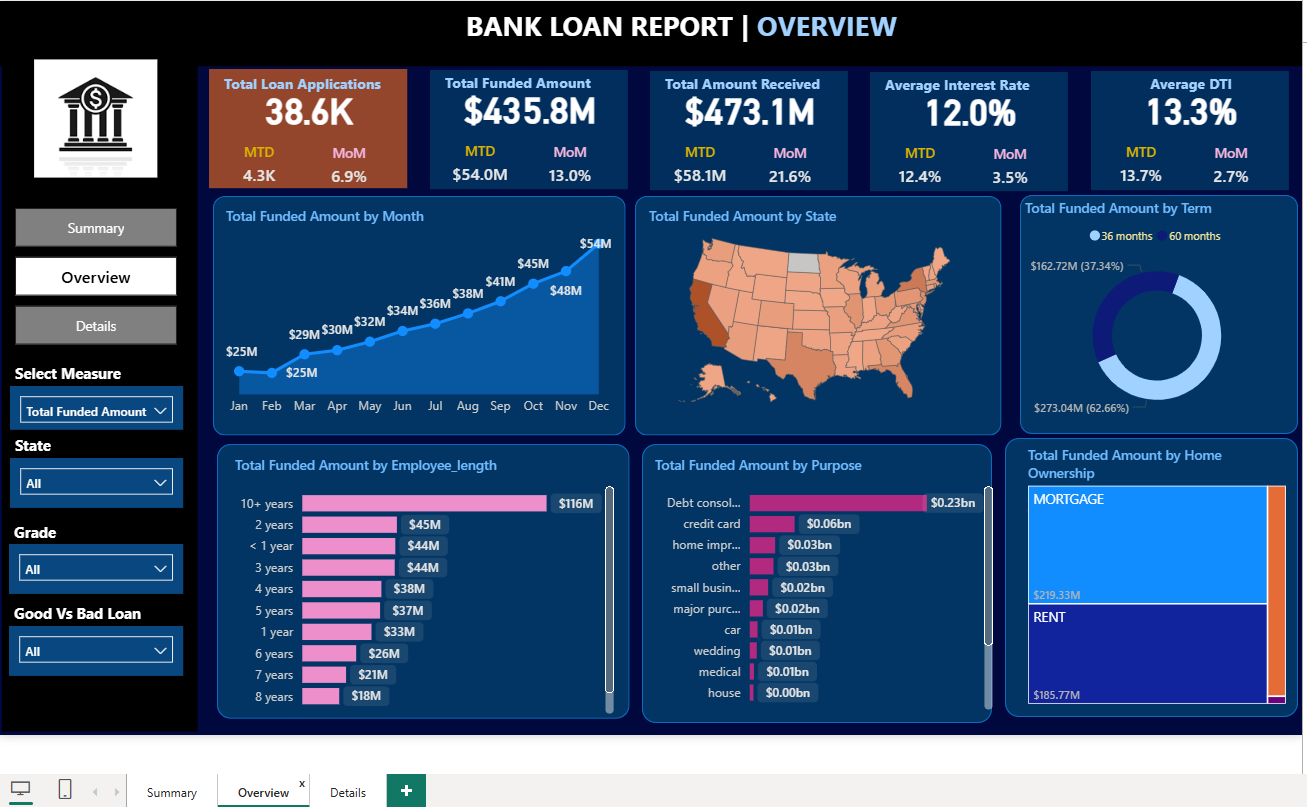

This screenshot's page, from the dashboard's own definition file:
{"tool":"powerbi","page":{"name":"Overview","canvas":[1280,720],"ordinal":1},"visuals":[{"type":"shape","box":[2.9,50.1,192.4,666.5],"z":0},{"type":"shape","box":[206.4,67.1,194.9,117.1],"z":0,"group":"g7"},{"type":"shape","box":[422.7,67.8,194.7,117.3],"z":0,"group":"g8"},{"type":"shape","box":[638.9,69.2,194.7,117.3],"z":0,"group":"g9"},{"type":"shape","box":[1071.8,69.5,194.7,117.3],"z":0,"group":"g11"},{"type":"shape","box":[855.1,69.7,194.7,117.3],"z":0,"group":"g10"},{"type":"group","id":"g1","title":"Group 2","box":[1002,190.1,272.9,234.6],"z":0,"group":"g14"},{"type":"group","id":"g2","title":"Group 2","box":[210.5,191.3,405,235],"z":0,"group":"g12"},{"type":"group","id":"g3","title":"Group 2","box":[624.4,191.3,359.6,235],"z":0,"group":"g13"},{"type":"group","id":"g4","title":"Group 2","box":[988,429.1,287.6,273.9],"z":0,"group":"g17"},{"type":"group","id":"g5","title":"Group 2","box":[214,435,405.4,269.9],"z":0,"group":"g15"},{"type":"group","id":"g6","title":"Group 2","box":[631,435,343.6,273.9],"z":0,"group":"g16"},{"type":"shape","box":[0,0,1280,54.1],"z":1000},{"type":"card","fields":{"Values":["bank_loan_data.Total Funded Amount"]},"box":[416.8,76.1,207.6,56.3],"z":1000,"group":"g8"},{"type":"card","fields":{"Values":["bank_loan_data.Total Loan Applications"]},"box":[200.5,77.3,207.6,56.3],"z":1000,"group":"g7"},{"type":"card","fields":{"Values":["bank_loan_data.Total Amount Recieved"]},"box":[633,77.5,207.6,56.3],"z":1000,"group":"g9"},{"type":"card","fields":{"Values":["bank_loan_data.Average DTI"]},"box":[1065.9,77.8,207.6,56.3],"z":1000,"group":"g11"},{"type":"card","fields":{"Values":["bank_loan_data.Average Interest Rate"]},"box":[849.2,78,207.6,56.3],"z":1000,"group":"g10"},{"type":"shape","box":[1002,190.1,272.9,234.6],"z":1000,"group":"g1"},{"type":"shape","box":[210.5,191.3,405,235],"z":1000,"group":"g2"},{"type":"shape","box":[624.4,191.3,359.6,235],"z":1000,"group":"g3"},{"type":"shape","box":[988,429.1,287.6,273.9],"z":1000,"group":"g4"},{"type":"shape","box":[214,435,405.4,269.9],"z":1000,"group":"g5"},{"type":"shape","box":[631,435,343.6,273.9],"z":1000,"group":"g6"},{"type":"textbox","box":[432,65.5,177.1,38.7],"z":2000,"group":"g8"},{"type":"textbox","box":[215.7,66.7,177.1,38.7],"z":2000,"group":"g7"},{"type":"textbox","box":[648.2,66.9,177.1,38.7],"z":2000,"group":"g9"},{"type":"textbox","box":[1081.1,67.2,177.1,38.7],"z":2000,"group":"g11"},{"type":"textbox","box":[864.4,67.4,177.1,38.7],"z":2000,"group":"g10"},{"type":"textbox","box":[10.8,421.1,65,38.5],"z":2000},{"type":"textbox","box":[453.5,0,447.7,51],"z":3000},{"type":"card","title":"MTD","fields":{"Values":["bank_loan_data.MTD Funded Amount"]},"box":[432,138.4,78.6,49.3],"z":3000,"group":"g8"},{"type":"card","title":"MTD","fields":{"Values":["bank_loan_data.MTD Loan Applications"]},"box":[215.7,139.6,78.6,49.3],"z":3000,"group":"g7"},{"type":"card","title":"MTD","fields":{"Values":["bank_loan_data.MTD Total Amount Recieved"]},"box":[648.2,139.8,78.6,49.3],"z":3000,"group":"g9"},{"type":"card","title":"MTD","fields":{"Values":["bank_loan_data.MTD Average DTI"]},"box":[1081.1,140.1,78.6,49.3],"z":3000,"group":"g11"},{"type":"card","title":"MTD","fields":{"Values":["bank_loan_data.MTD Average Interest Rate"]},"box":[864.4,140.3,78.6,49.3],"z":3000,"group":"g10"},{"type":"group","id":"g7","title":"Group 1","box":[200.5,66.7,207.6,123.3],"z":4000},{"type":"card","title":"MoM","fields":{"Values":["bank_loan_data.MOM Total Funded Amount"]},"box":[521.2,139.5,78.6,49.3],"z":4000,"group":"g8"},{"type":"card","title":"MoM","fields":{"Values":["bank_loan_data.MoM Loan Application"]},"box":[304.9,140.7,78.6,49.3],"z":4000,"group":"g7"},{"type":"card","title":"MoM","fields":{"Values":["bank_loan_data.MOM Total Amount Recieved"]},"box":[737.4,140.9,78.6,49.3],"z":4000,"group":"g9"},{"type":"card","title":"MoM","fields":{"Values":["bank_loan_data.MOM Average DTI"]},"box":[1170.3,141.2,78.6,49.3],"z":4000,"group":"g11"},{"type":"card","title":"MoM","fields":{"Values":["bank_loan_data.MOM Average Interest Rate"]},"box":[953.6,141.4,78.6,49.3],"z":4000,"group":"g10"},{"type":"group","id":"g8","title":"Group 1","box":[416.8,65.5,207.6,123.3],"z":5000},{"type":"group","id":"g9","title":"Group 1","box":[633,66.9,207.6,123.3],"z":6000},{"type":"group","id":"g10","title":"Group 1","box":[849.2,67.4,208,124],"z":7000},{"type":"group","id":"g11","title":"Group 1","box":[1065.9,67.2,208.1,123.9],"z":8000},{"type":"group","id":"g12","title":"Group 3","box":[210.5,191.3,405,235],"z":9000},{"type":"shape","box":[0,50.5,1280,14.4],"z":10000},{"type":"slicer","fields":{"Values":["bank_loan_data.address_state"]},"box":[10.8,448.7,169.6,49.3],"z":11000},{"type":"slicer","fields":{"Values":["bank_loan_data.grade"]},"box":[9.6,532.9,170.8,49.3],"z":12000},{"type":"textbox","box":[9.6,506.5,65,38.5],"z":13000},{"type":"slicer","fields":{"Values":["bank_loan_data.Good vs Bad Loan"]},"box":[9.6,613.5,170.8,49.3],"z":14000},{"type":"textbox","box":[9.8,586,170.8,38.3],"z":15000},{"type":"areaChart","fields":{"Y":["bank_loan_data.Total Funded Amount"],"Category":["Date Table.Month"]},"box":[217.7,202.1,388.6,212.9],"z":16000},{"type":"slicer","fields":{"Values":["Select Measure.Select Measure"]},"box":[10.8,377.7,169.6,43.3],"z":17000},{"type":"textbox","box":[10.8,350.1,176.8,37.3],"z":18000},{"type":"group","id":"g13","title":"Group 3","box":[624.4,191.3,359.7,235.8],"z":19000},{"type":"shapeMap","fields":{"Value":["bank_loan_data.Total Funded Amount"],"Category":["bank_loan_data.address_state"]},"box":[633.1,202.2,334.7,205.2],"z":20000},{"type":"donutChart","fields":{"Y":["bank_loan_data.Total Funded Amount"],"Category":["bank_loan_data.term"]},"box":[1002,193.9,269,223.8],"z":20002,"group":"g14"},{"type":"treemap","fields":{"Values":["bank_loan_data.Total Funded Amount"],"Group":["bank_loan_data.home_ownership"]},"box":[1005.7,436.8,263.1,258.2],"z":20007,"group":"g4"},{"type":"group","id":"g14","title":"Group 3","box":[1002,190.1,272.9,234.6],"z":21000},{"type":"group","id":"g15","title":"Group 3","box":[214,435,405.4,269.9],"z":22000},{"type":"barChart","fields":{"Y":["bank_loan_data.Total Funded Amount"],"Category":["bank_loan_data.emp_length"]},"box":[226.7,446.6,381.8,258.2],"z":23000},{"type":"group","id":"g16","title":"Group 3","box":[631,435,343.6,273.9],"z":24000},{"type":"barChart","fields":{"Y":["bank_loan_data.Total Funded Amount"],"Category":["bank_loan_data.purpose"]},"box":[639,446.6,341.6,254.2],"z":25000},{"type":"group","id":"g17","title":"Group 3","box":[988,429.1,287.6,273.9],"z":26000},{"type":"pageNavigator","box":[15.7,203.2,159,134.5],"z":27000},{"type":"image","box":[29.4,35.3,130.6,159],"z":28000}]}

Visuals, with their boxes on the page's 1280x720 design canvas (x1, y1, x2, y2). These are canvas units, not pixel positions in the 1307x807 screenshot, which may show the page scaled, cropped or inside an application window:
shape: (left=3, top=50, right=195, bottom=717)
shape: (left=206, top=67, right=401, bottom=184)
shape: (left=423, top=68, right=617, bottom=185)
shape: (left=639, top=69, right=834, bottom=186)
shape: (left=1072, top=70, right=1266, bottom=187)
shape: (left=855, top=70, right=1050, bottom=187)
"Group 2" group: (left=1002, top=190, right=1275, bottom=425)
"Group 2" group: (left=210, top=191, right=616, bottom=426)
"Group 2" group: (left=624, top=191, right=984, bottom=426)
"Group 2" group: (left=988, top=429, right=1276, bottom=703)
"Group 2" group: (left=214, top=435, right=619, bottom=705)
"Group 2" group: (left=631, top=435, right=975, bottom=709)
shape: (left=0, top=0, right=1280, bottom=54)
card - bank_loan_data.Total Funded Amount: (left=417, top=76, right=624, bottom=132)
card - bank_loan_data.Total Loan Applications: (left=200, top=77, right=408, bottom=134)
card - bank_loan_data.Total Amount Recieved: (left=633, top=78, right=841, bottom=134)
card - bank_loan_data.Average DTI: (left=1066, top=78, right=1274, bottom=134)
card - bank_loan_data.Average Interest Rate: (left=849, top=78, right=1057, bottom=134)
shape: (left=1002, top=190, right=1275, bottom=425)
shape: (left=210, top=191, right=616, bottom=426)
shape: (left=624, top=191, right=984, bottom=426)
shape: (left=988, top=429, right=1276, bottom=703)
shape: (left=214, top=435, right=619, bottom=705)
shape: (left=631, top=435, right=975, bottom=709)
textbox: (left=432, top=66, right=609, bottom=104)
textbox: (left=216, top=67, right=393, bottom=105)
textbox: (left=648, top=67, right=825, bottom=106)
textbox: (left=1081, top=67, right=1258, bottom=106)
textbox: (left=864, top=67, right=1042, bottom=106)
textbox: (left=11, top=421, right=76, bottom=460)
textbox: (left=454, top=0, right=901, bottom=51)
"MTD" card: (left=432, top=138, right=511, bottom=188)
"MTD" card: (left=216, top=140, right=294, bottom=189)
"MTD" card: (left=648, top=140, right=727, bottom=189)
"MTD" card: (left=1081, top=140, right=1160, bottom=189)
"MTD" card: (left=864, top=140, right=943, bottom=190)
"Group 1" group: (left=200, top=67, right=408, bottom=190)
"MoM" card: (left=521, top=140, right=600, bottom=189)
"MoM" card: (left=305, top=141, right=384, bottom=190)
"MoM" card: (left=737, top=141, right=816, bottom=190)
"MoM" card: (left=1170, top=141, right=1249, bottom=190)
"MoM" card: (left=954, top=141, right=1032, bottom=191)
"Group 1" group: (left=417, top=66, right=624, bottom=189)
"Group 1" group: (left=633, top=67, right=841, bottom=190)
"Group 1" group: (left=849, top=67, right=1057, bottom=191)
"Group 1" group: (left=1066, top=67, right=1274, bottom=191)
"Group 3" group: (left=210, top=191, right=616, bottom=426)
shape: (left=0, top=50, right=1280, bottom=65)
slicer - bank_loan_data.address_state: (left=11, top=449, right=180, bottom=498)
slicer - bank_loan_data.grade: (left=10, top=533, right=180, bottom=582)
textbox: (left=10, top=506, right=75, bottom=545)
slicer - bank_loan_data.Good vs Bad Loan: (left=10, top=614, right=180, bottom=663)
textbox: (left=10, top=586, right=181, bottom=624)
areaChart - bank_loan_data.Total Funded Amount x Date Table.Month: (left=218, top=202, right=606, bottom=415)
slicer - Select Measure.Select Measure: (left=11, top=378, right=180, bottom=421)
textbox: (left=11, top=350, right=188, bottom=387)
"Group 3" group: (left=624, top=191, right=984, bottom=427)
shapeMap - bank_loan_data.Total Funded Amount x bank_loan_data.address_state: (left=633, top=202, right=968, bottom=407)
donutChart - bank_loan_data.Total Funded Amount x bank_loan_data.term: (left=1002, top=194, right=1271, bottom=418)
treemap - bank_loan_data.Total Funded Amount x bank_loan_data.home_ownership: (left=1006, top=437, right=1269, bottom=695)
"Group 3" group: (left=1002, top=190, right=1275, bottom=425)
"Group 3" group: (left=214, top=435, right=619, bottom=705)
barChart - bank_loan_data.Total Funded Amount x bank_loan_data.emp_length: (left=227, top=447, right=608, bottom=705)
"Group 3" group: (left=631, top=435, right=975, bottom=709)
barChart - bank_loan_data.Total Funded Amount x bank_loan_data.purpose: (left=639, top=447, right=981, bottom=701)
"Group 3" group: (left=988, top=429, right=1276, bottom=703)
pageNavigator: (left=16, top=203, right=175, bottom=338)
image: (left=29, top=35, right=160, bottom=194)
